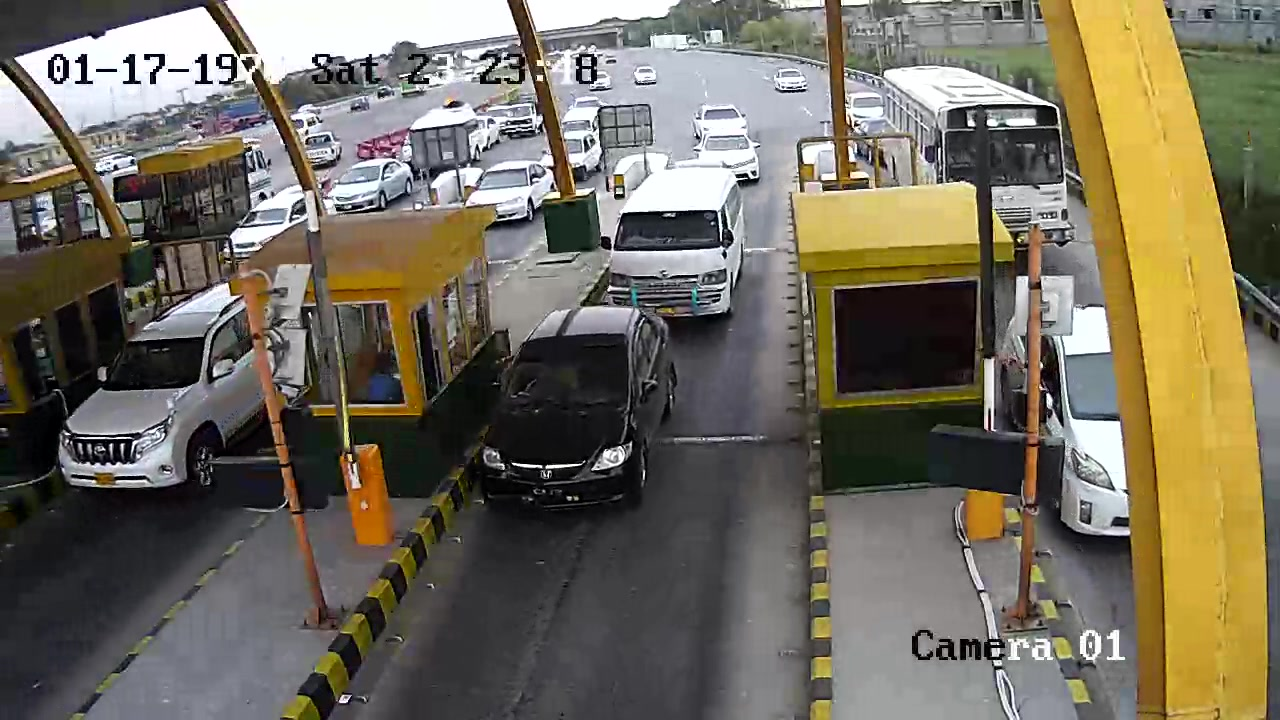F1: (478, 299, 677, 523)
